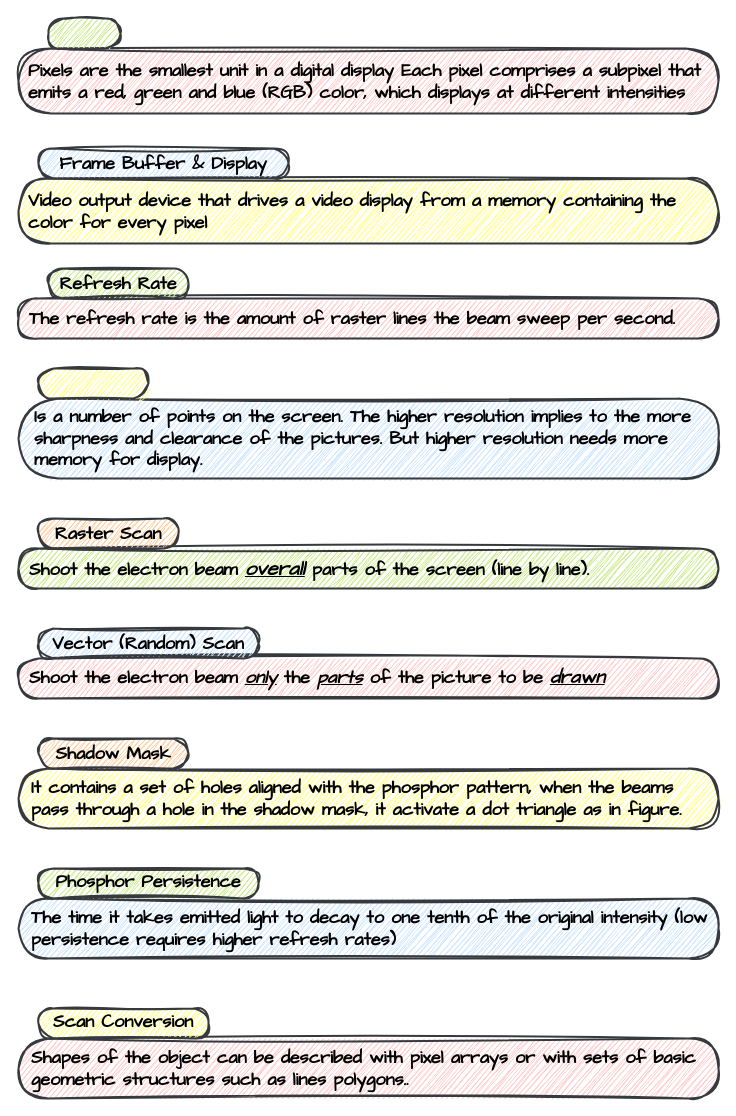
Image size: 736x1116. Some labels were removed from this diagram. The shapes that lost their labels are listed below. From the top down, each one's box as (x1, y1, x2, y2) in pixels, then its label:
(47, 17, 121, 49): Pixels
(37, 367, 149, 399): Resolution
